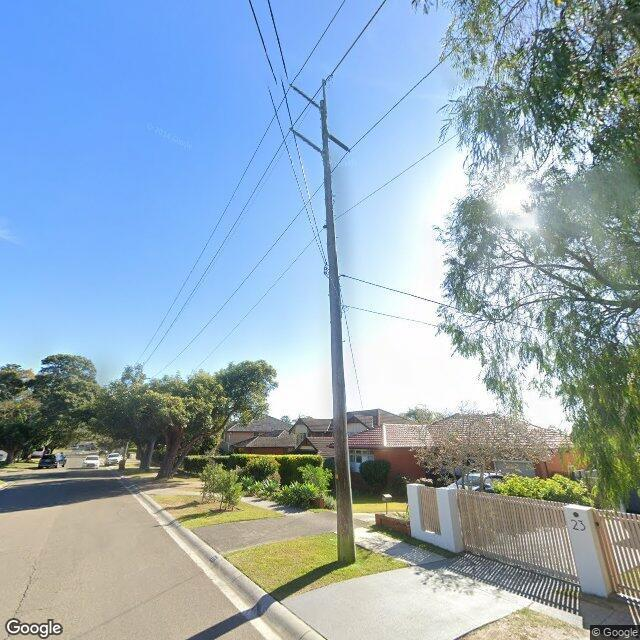HV-transmission: (289, 79, 351, 153)
timber-pole: (321, 100, 356, 564)
